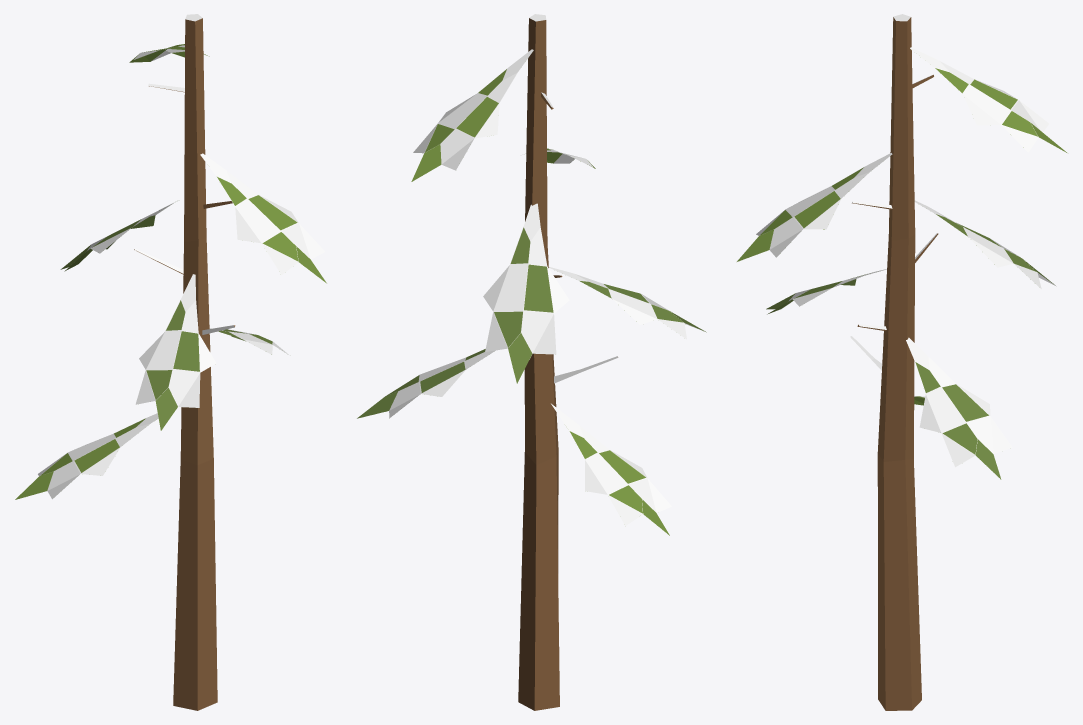
Rendered from Dead_Pine_Tree_crk_l_Snow_02_LOD.fbx.
The picture shows the model from 3 angles, left to right: view 1: azimuth 30°, elevation 25°; view 2: azimuth 150°, elevation 25°; view 3: azimuth 270°, elevation 25°; orthographic projection.
Parts seen in each view (by area): view 1: Dead_Pine_Tree_crk_l_Snow_02_LOD0; view 2: Dead_Pine_Tree_crk_l_Snow_02_LOD0; view 3: Dead_Pine_Tree_crk_l_Snow_02_LOD0.
Part boxes in pixels (x1,y1,x2,y2): Dead_Pine_Tree_crk_l_Snow_02_LOD0: (15,14,326,710); Dead_Pine_Tree_crk_l_Snow_02_LOD0: (356,14,706,710); Dead_Pine_Tree_crk_l_Snow_02_LOD0: (737,14,1068,710).
Size of what is drawn, in the model's own units: 459 by 1042 by 459.
